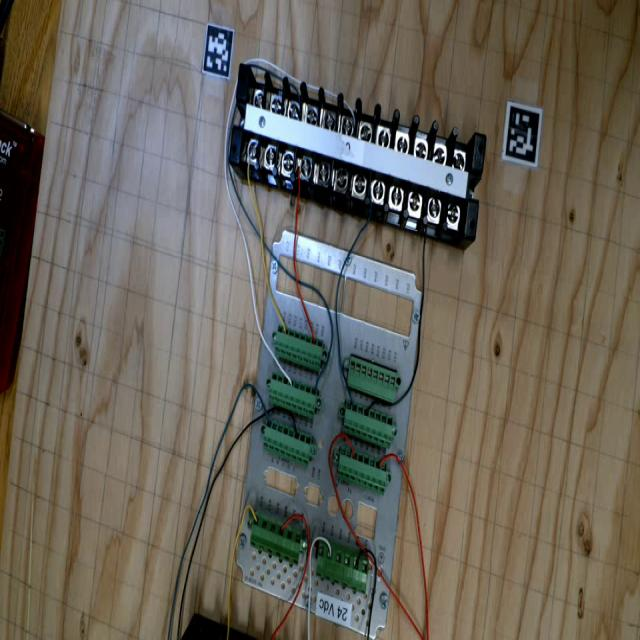Phillips_Block: (211, 57, 506, 240)
Terminal_1: (242, 510, 311, 566), (308, 540, 378, 594)
Terminal_2: (329, 444, 396, 496), (255, 416, 320, 468), (335, 399, 401, 450), (262, 371, 325, 419), (268, 324, 330, 372)
